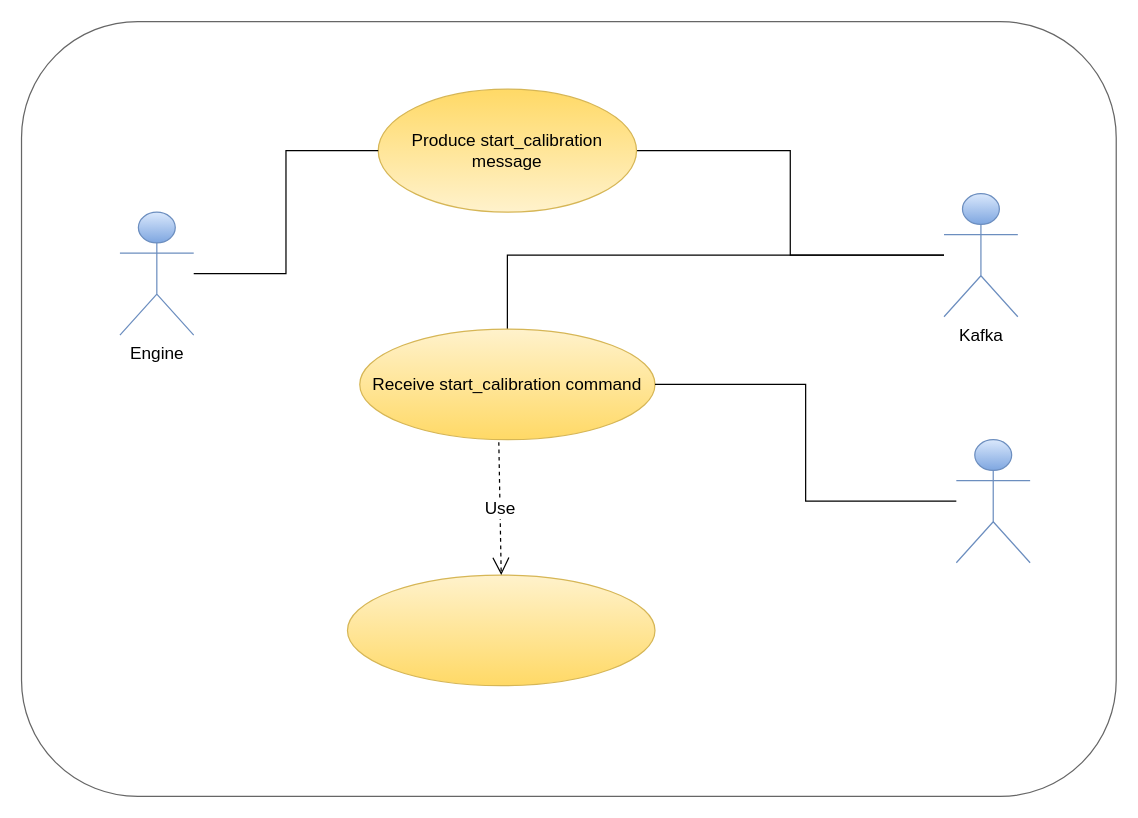
Image size: 1138x818. Some labels were removed from this diagram. Here are the shapes that lost their labels. From the top down, the box of each, then its label:
(955, 438, 1030, 563): Sensors
(346, 574, 655, 686): Process start_calibration command
